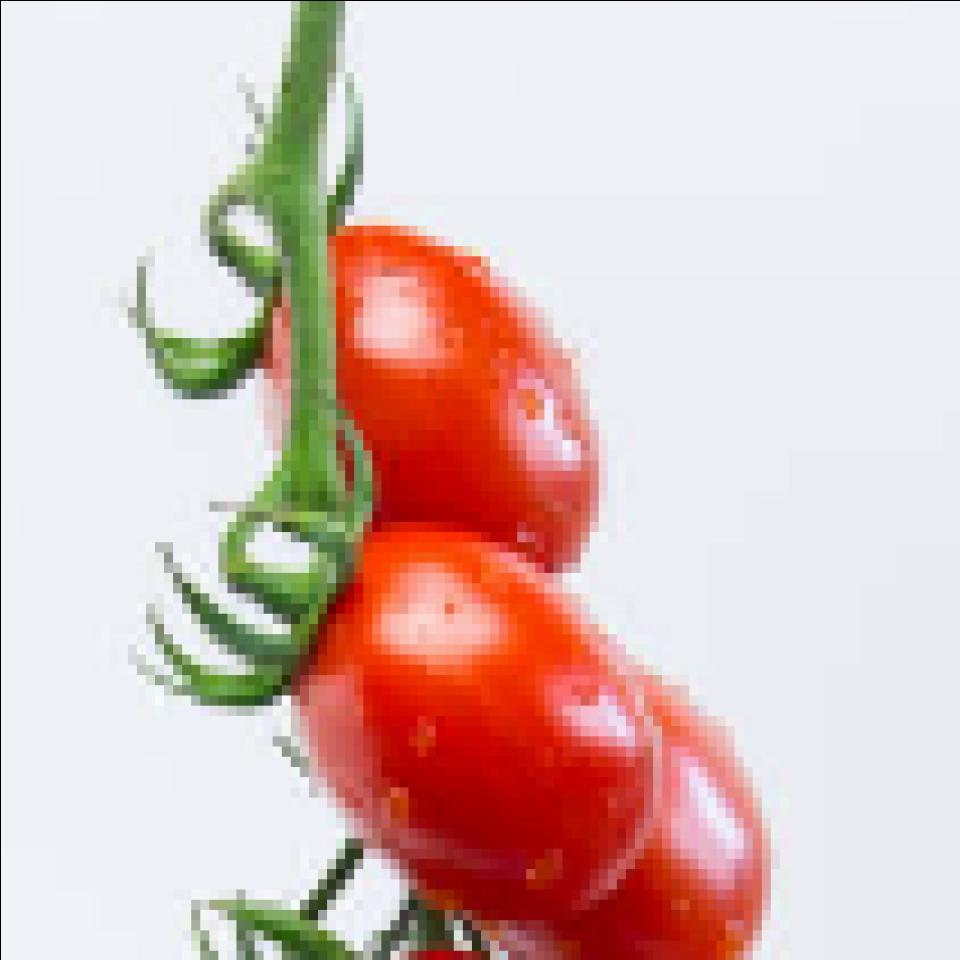Healthy: (251, 538, 666, 888), (278, 221, 597, 562), (482, 728, 770, 956)
